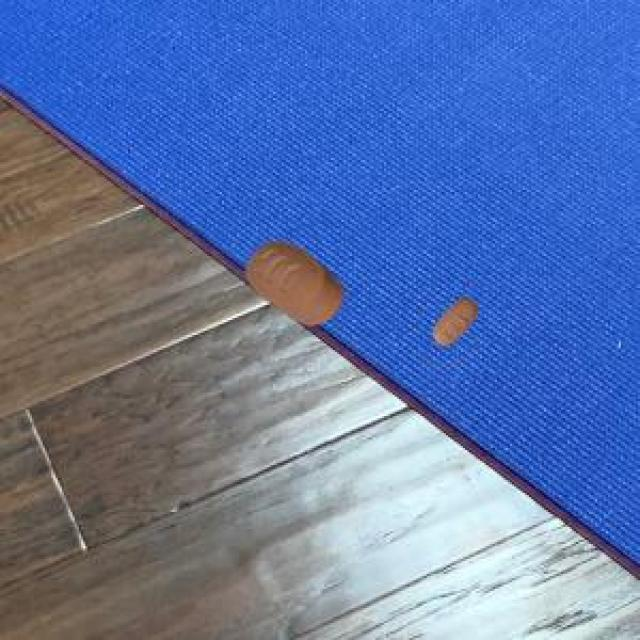Biogesic: (236, 224, 352, 350), (418, 286, 484, 366)
